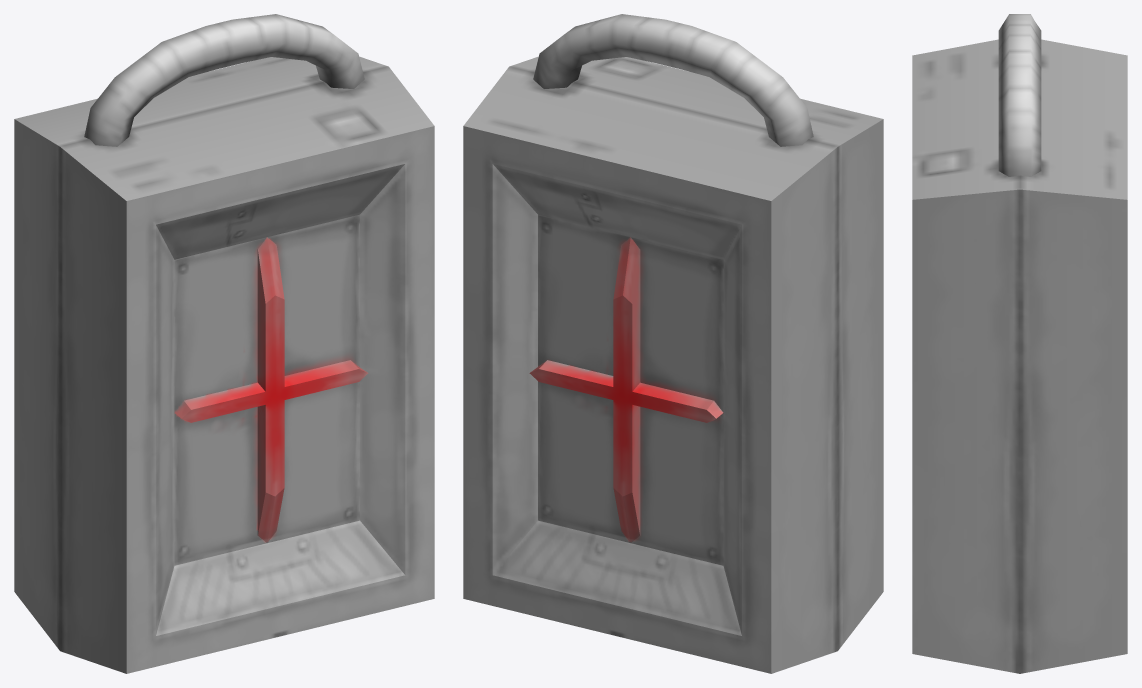
The model's file is health.fbx.
The picture shows the model from 3 angles, left to right: view 1: azimuth 30°, elevation 25°; view 2: azimuth 150°, elevation 25°; view 3: azimuth 270°, elevation 25°; orthographic projection. The views are drawn at different scales.
Parts seen in each view (by area): view 1: Cube; view 2: Cube; view 3: Cube.
Part boxes in pixels (box(x1,y1,x2,y2)): Cube: box(14, 14, 434, 673); Cube: box(463, 14, 883, 673); Cube: box(912, 14, 1127, 673).
Size of the model in its own units: 0.2139 by 0.3633 by 0.1265.
Materials: 1 (1 with a texture image).
